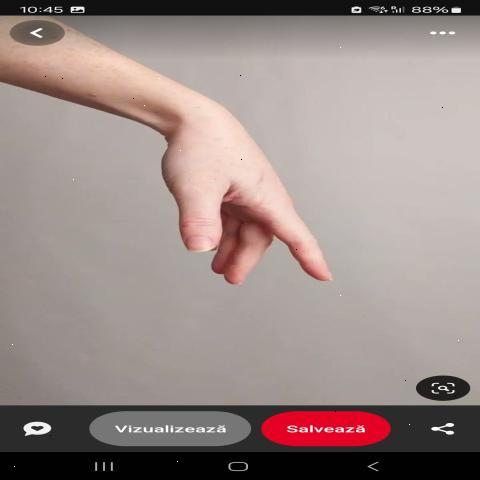Hands: (112, 80, 395, 325)
